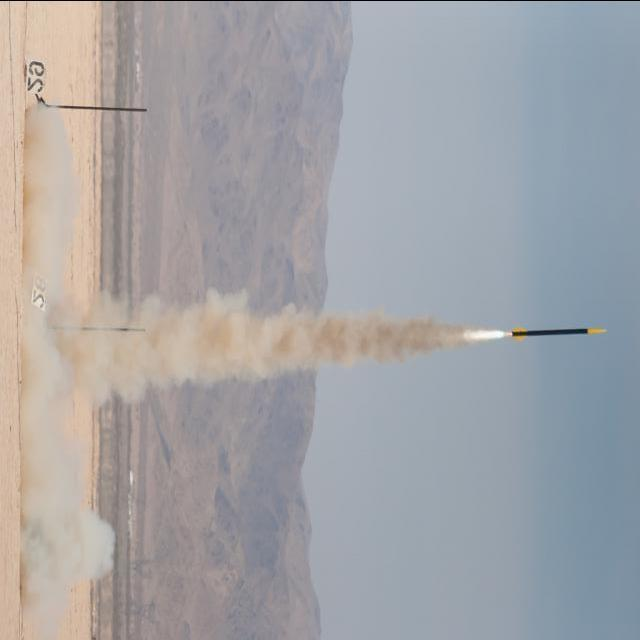missile: (497, 324, 607, 341)
